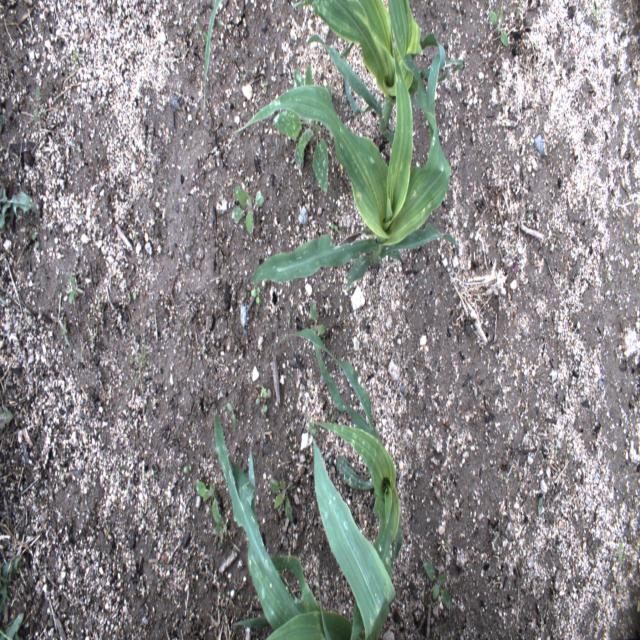crop: (235, 20, 464, 290), (214, 415, 395, 639), (276, 326, 404, 634), (292, 0, 436, 154), (203, 0, 221, 113)
weed: (272, 64, 330, 195), (194, 478, 228, 552), (1, 176, 40, 232), (230, 184, 265, 237), (1, 557, 25, 618), (267, 474, 293, 525), (424, 560, 450, 611), (488, 5, 509, 47), (308, 298, 326, 340), (0, 608, 25, 638), (66, 274, 84, 303), (34, 84, 46, 121), (225, 402, 237, 428), (249, 286, 260, 308), (536, 496, 544, 518)
